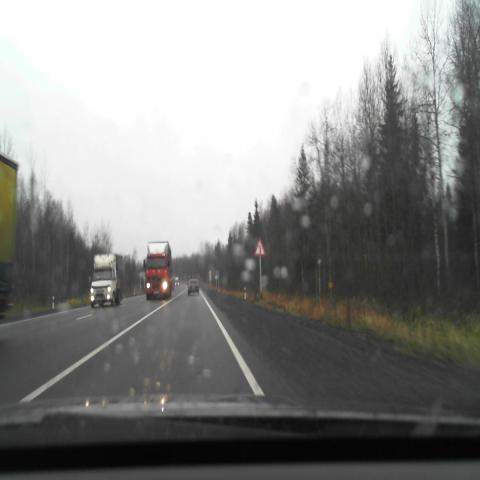1_11_1: (254, 236, 266, 256)
